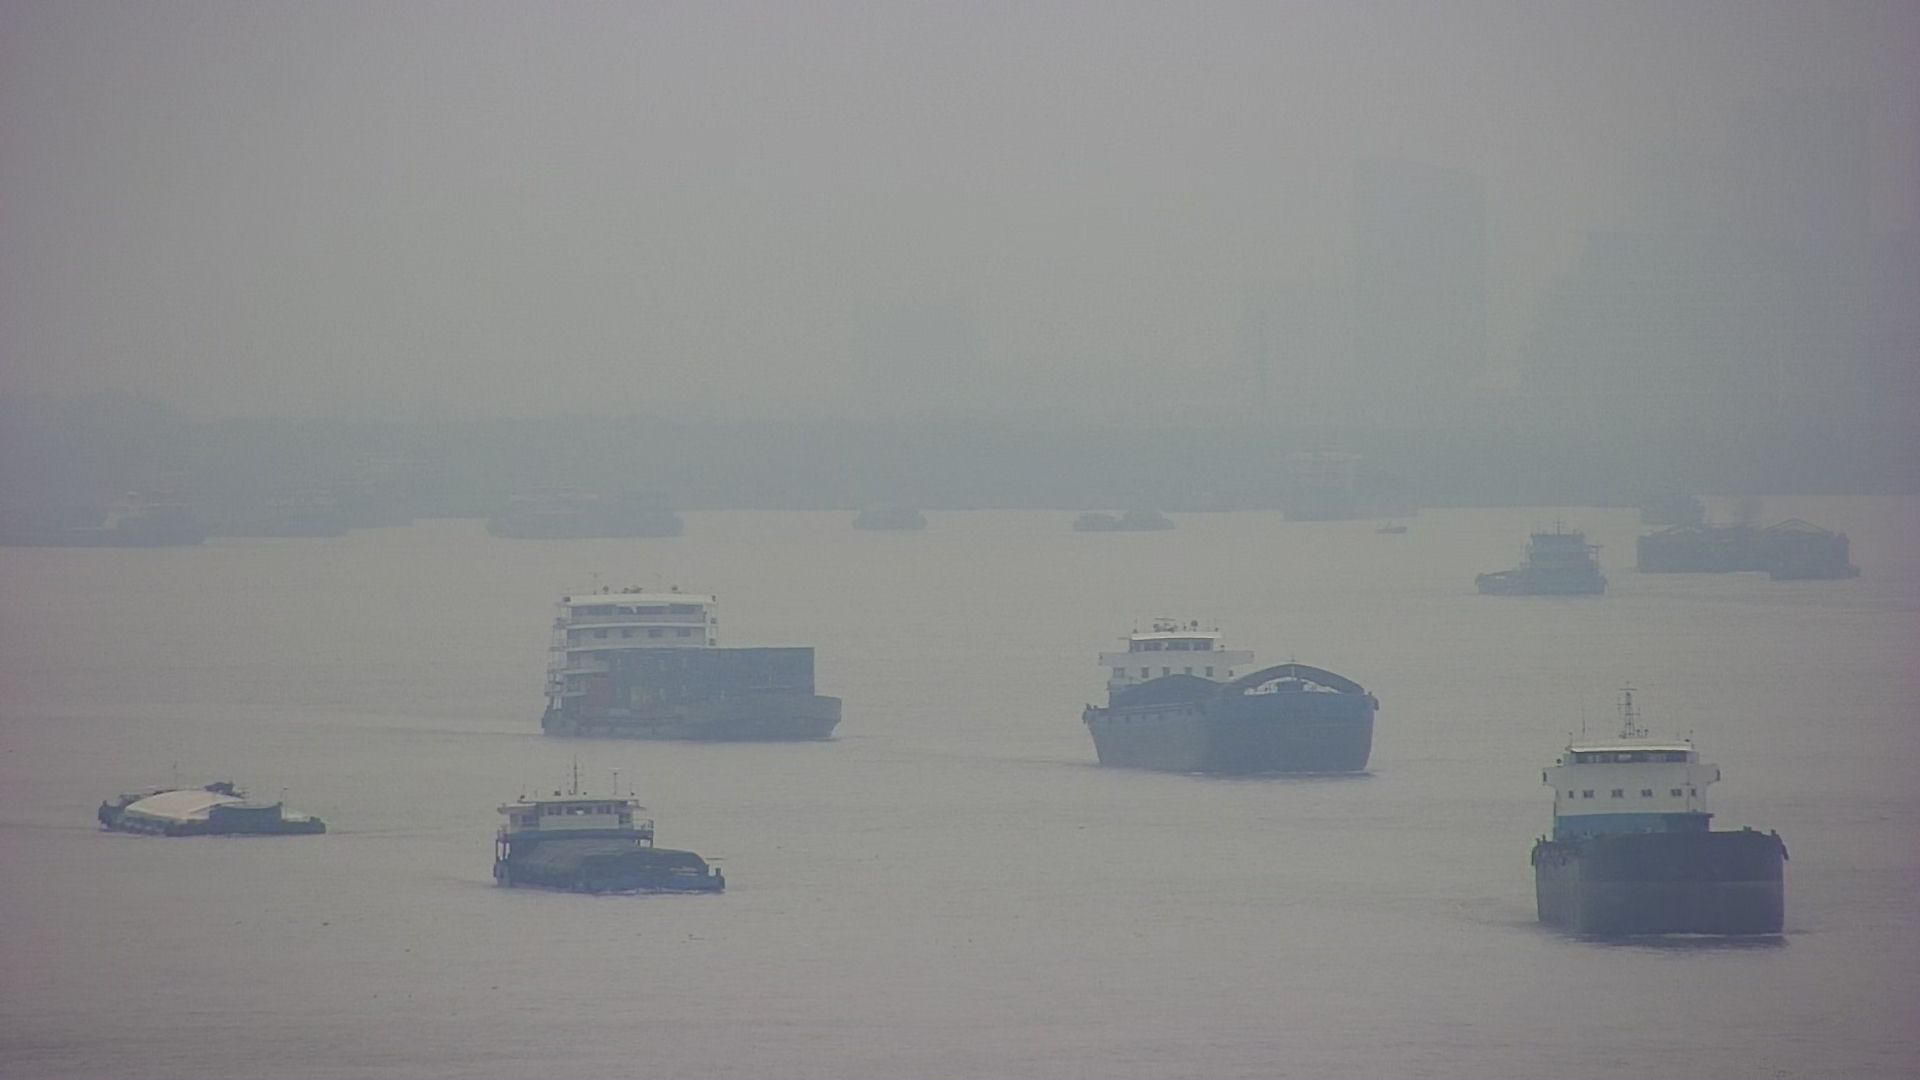ship: (1528, 723, 1791, 942), (1068, 620, 1383, 777), (535, 591, 853, 744), (483, 767, 723, 897), (99, 767, 331, 841), (1469, 531, 1623, 597)
